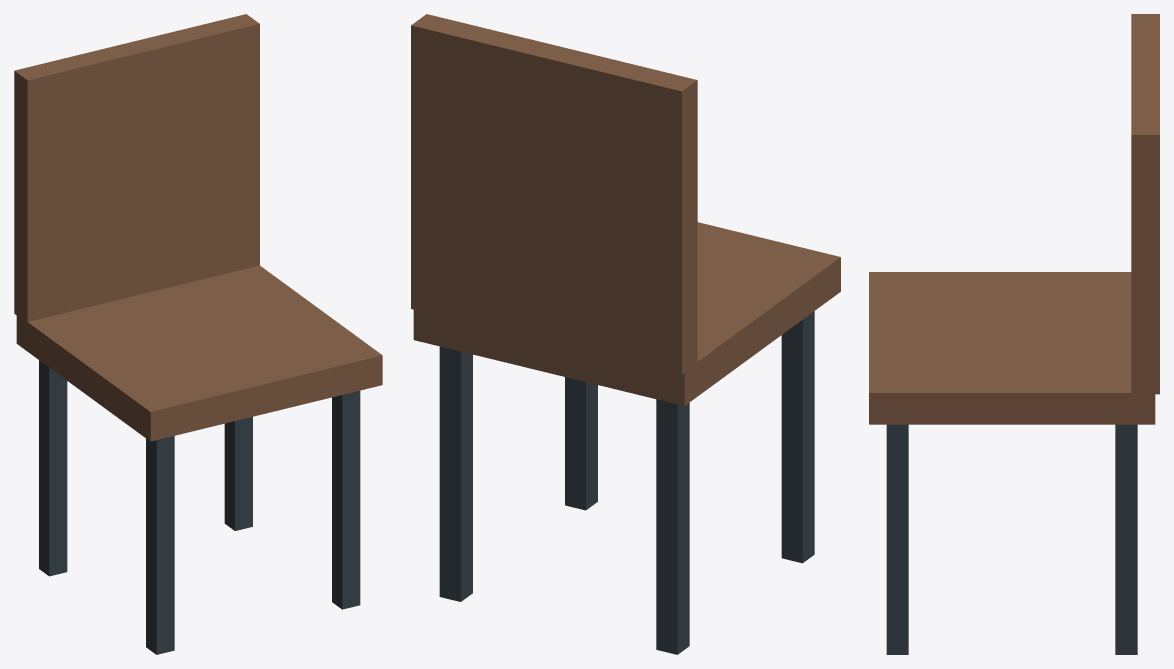
Rendered from chair.glb.
The picture shows the model from 3 angles, left to right: view 1: azimuth 30°, elevation 25°; view 2: azimuth 150°, elevation 25°; view 3: azimuth 270°, elevation 25°; orthographic projection. The views are drawn at different scales.
Parts seen in each view (by area): view 1: chair; view 2: chair; view 3: chair.
Part boxes in pixels (x1,y1,x2,y2): chair: [14, 14, 382, 654]; chair: [411, 14, 840, 654]; chair: [869, 14, 1159, 654].
Bounding box in the file's own units: 0.45 × 0.915 × 0.4575.
